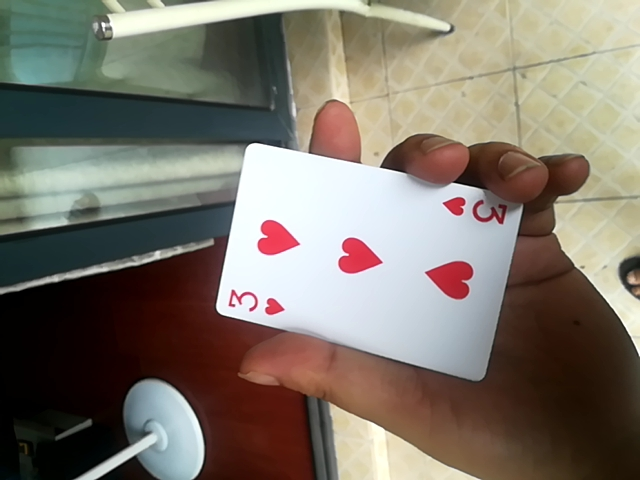hx 3: (214, 139, 522, 382)
